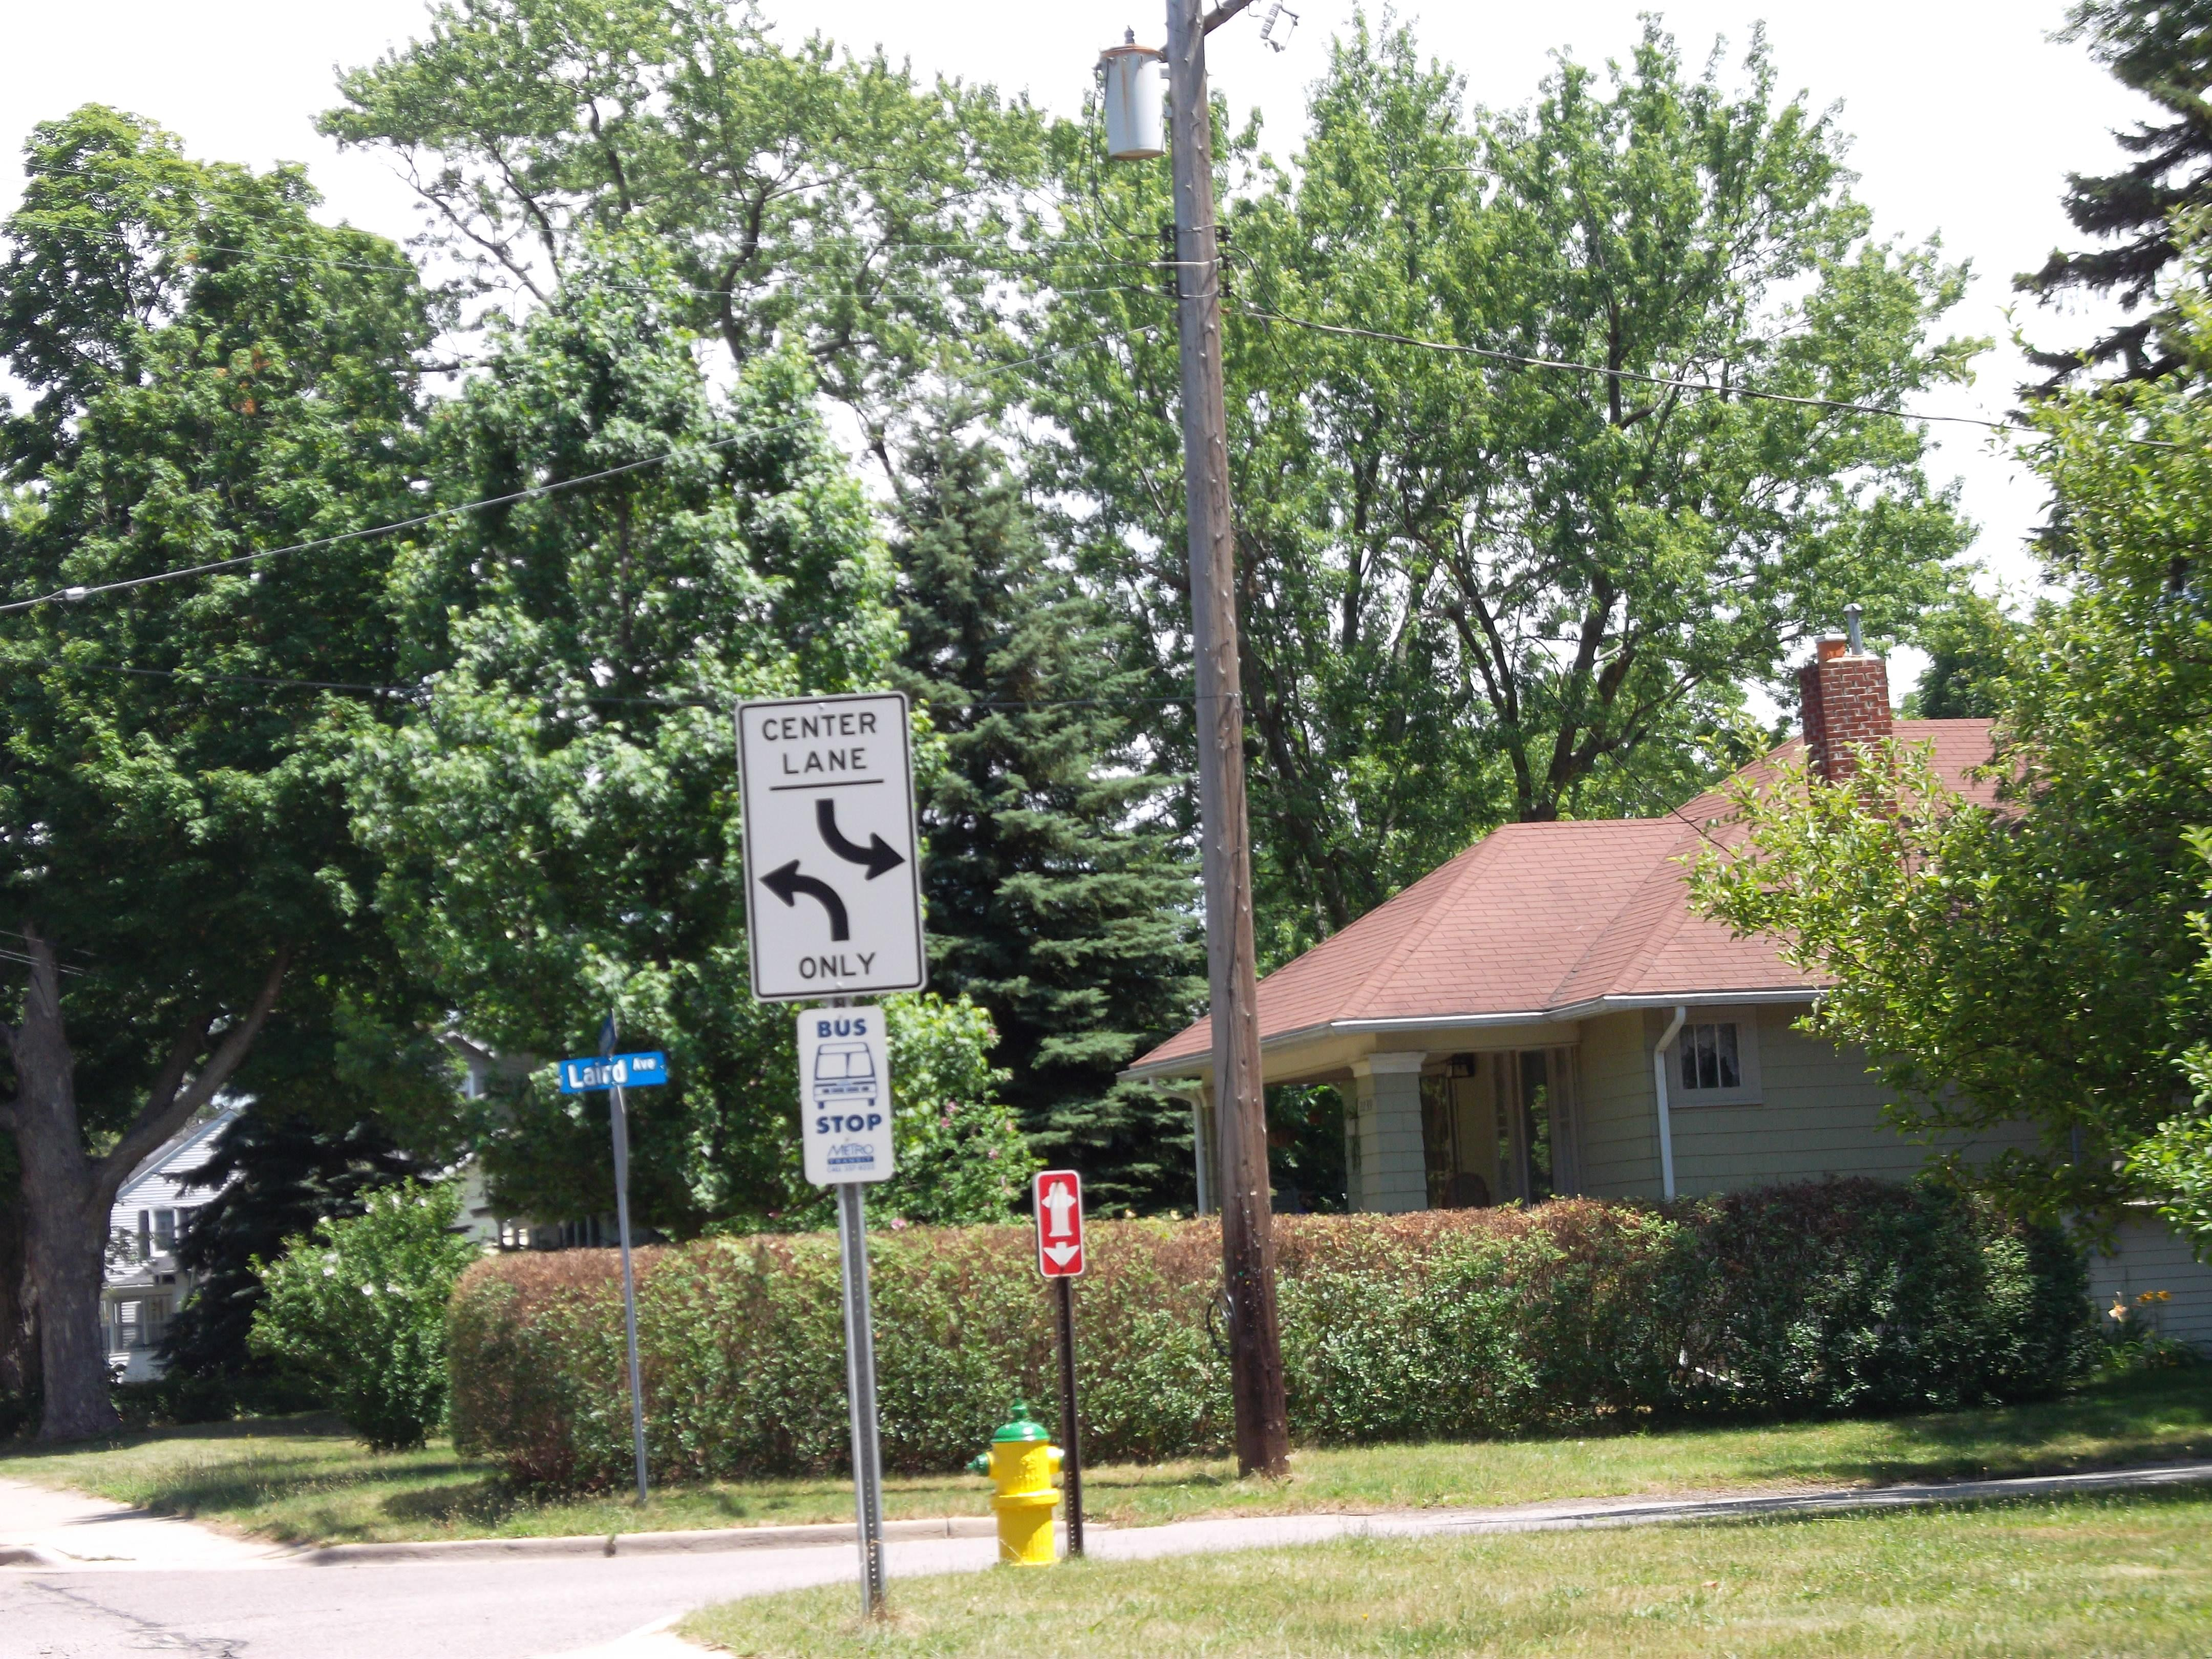regulatory: (728, 678, 930, 1004)
